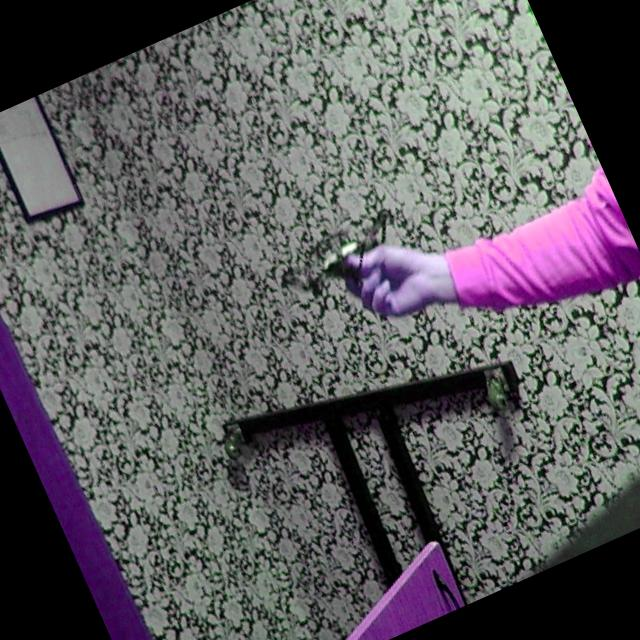drone: (258, 179, 424, 321)
